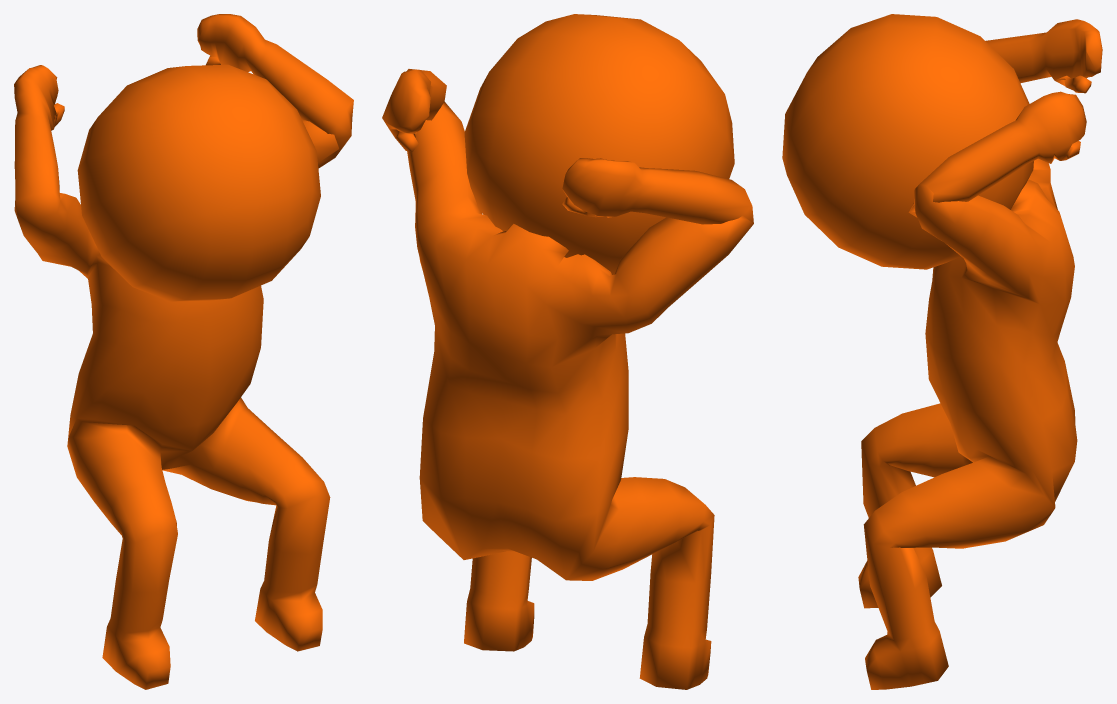
Rendered from sitAndCarry (1).fbx.
3 renders of one model, left to right at view 1: azimuth 30°, elevation 25°; view 2: azimuth 150°, elevation 25°; view 3: azimuth 270°, elevation 25°, orthographic. The views are drawn at different scales.
Parts seen in each view (by area): view 1: model; view 2: model; view 3: model.
Part boxes in pixels (box(x1,y1,x2,y2)): model: box(14, 14, 353, 689); model: box(382, 14, 753, 689); model: box(782, 14, 1102, 689).
Bounding box in the file's own units: 69.95 × 120 × 57.16.
